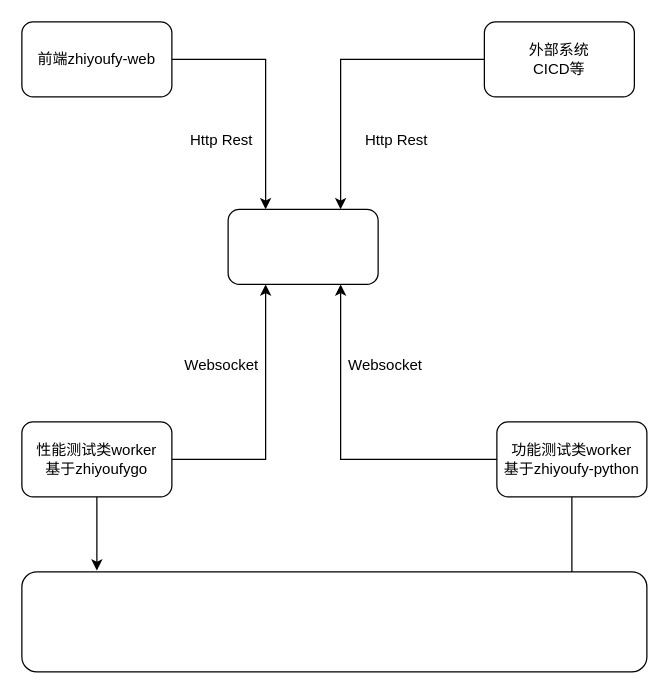
This 669x694 diagram has some shape labels left out. Each missing label, with the centre of its shape:
各种外部被测系统: pixel 334 621
后端zhiyoufy-java: pixel 302 246
